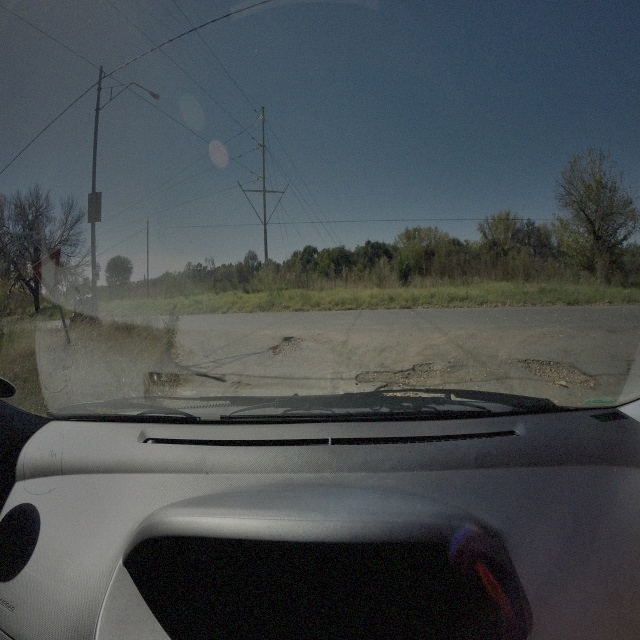pothole: (520, 352, 596, 391), (355, 358, 440, 392), (273, 334, 301, 356)
